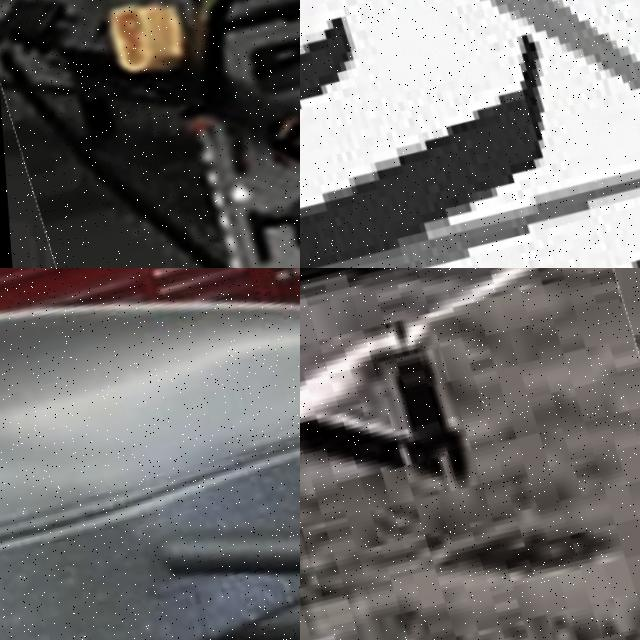0: (300, 268, 640, 640)
drone: (0, 268, 300, 640), (300, 0, 640, 268), (0, 0, 300, 268)
